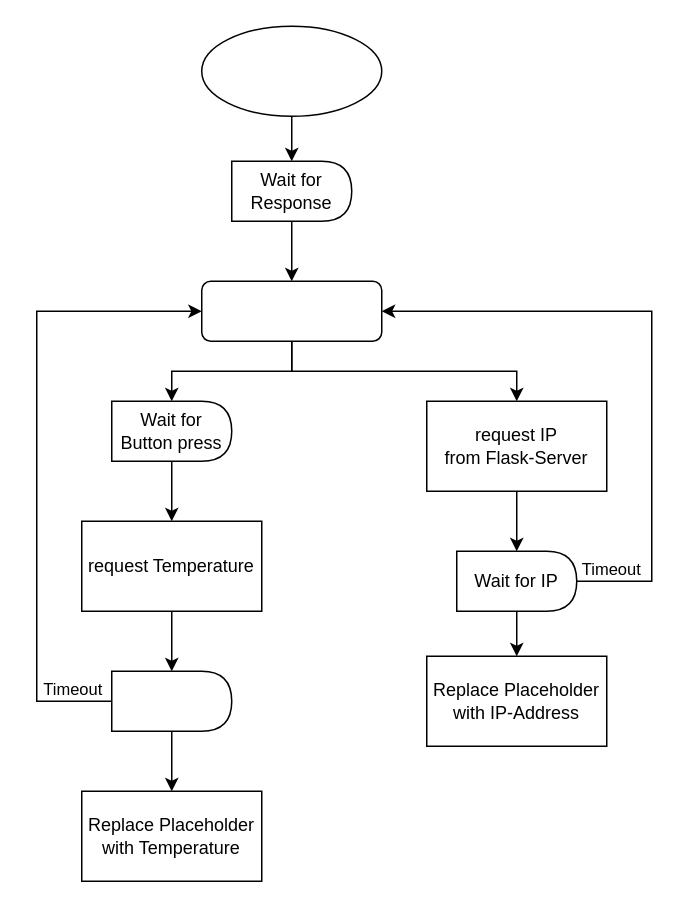
Image size: 690x908. Some labels were removed from this diagram. Here are the shapes that lost their labels. From the top down, the box of each, then its label:
(200, 25, 382, 116): Page is requested
(200, 280, 382, 341): Page is rendered
(110, 670, 232, 731): wait for Temperature
